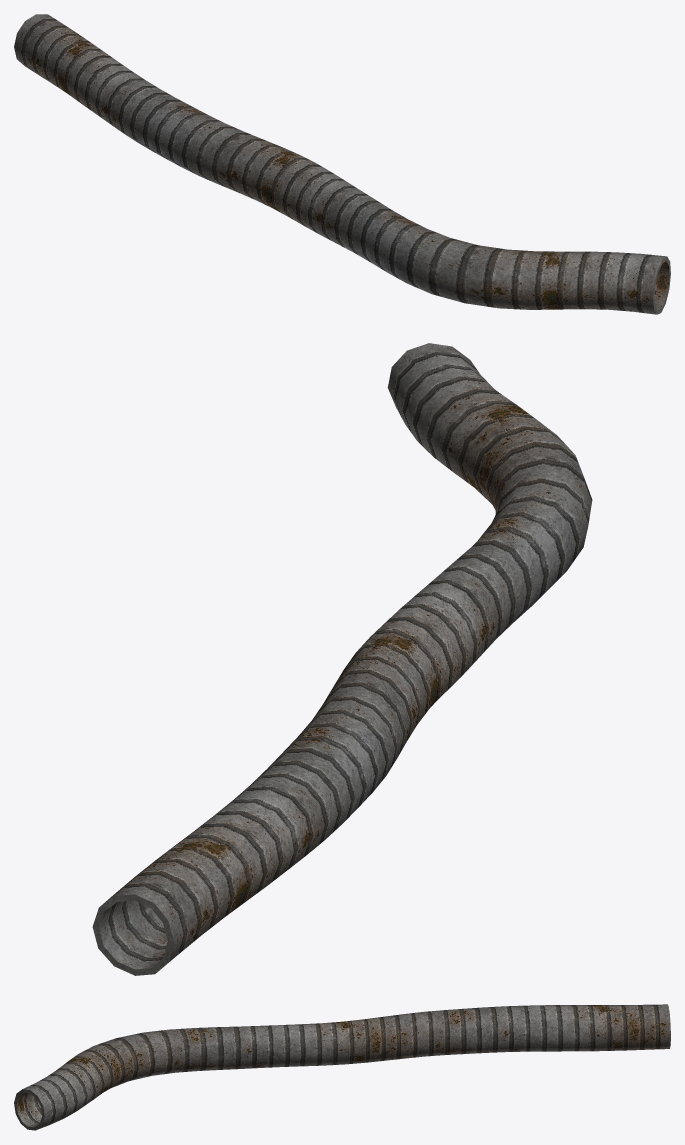
The model's file is pipe_e_3.glb.
3 views of the same model, one above another, from view 1: azimuth 30°, elevation 25°; view 2: azimuth 150°, elevation 25°; view 3: azimuth 270°, elevation 25° (orthographic). The views are drawn at different scales.
Parts seen in each view (by area): view 1: pipe_e_3; view 2: pipe_e_3; view 3: pipe_e_3.
Part boxes in pixels (box(x1,y1,x2,y2)): pipe_e_3: box(14, 14, 670, 314); pipe_e_3: box(92, 343, 592, 975); pipe_e_3: box(14, 1004, 670, 1130).
Size of the model in its own units: 1.31 by 0.25 by 3.65.
Materials: 1 (1 with a texture image).
